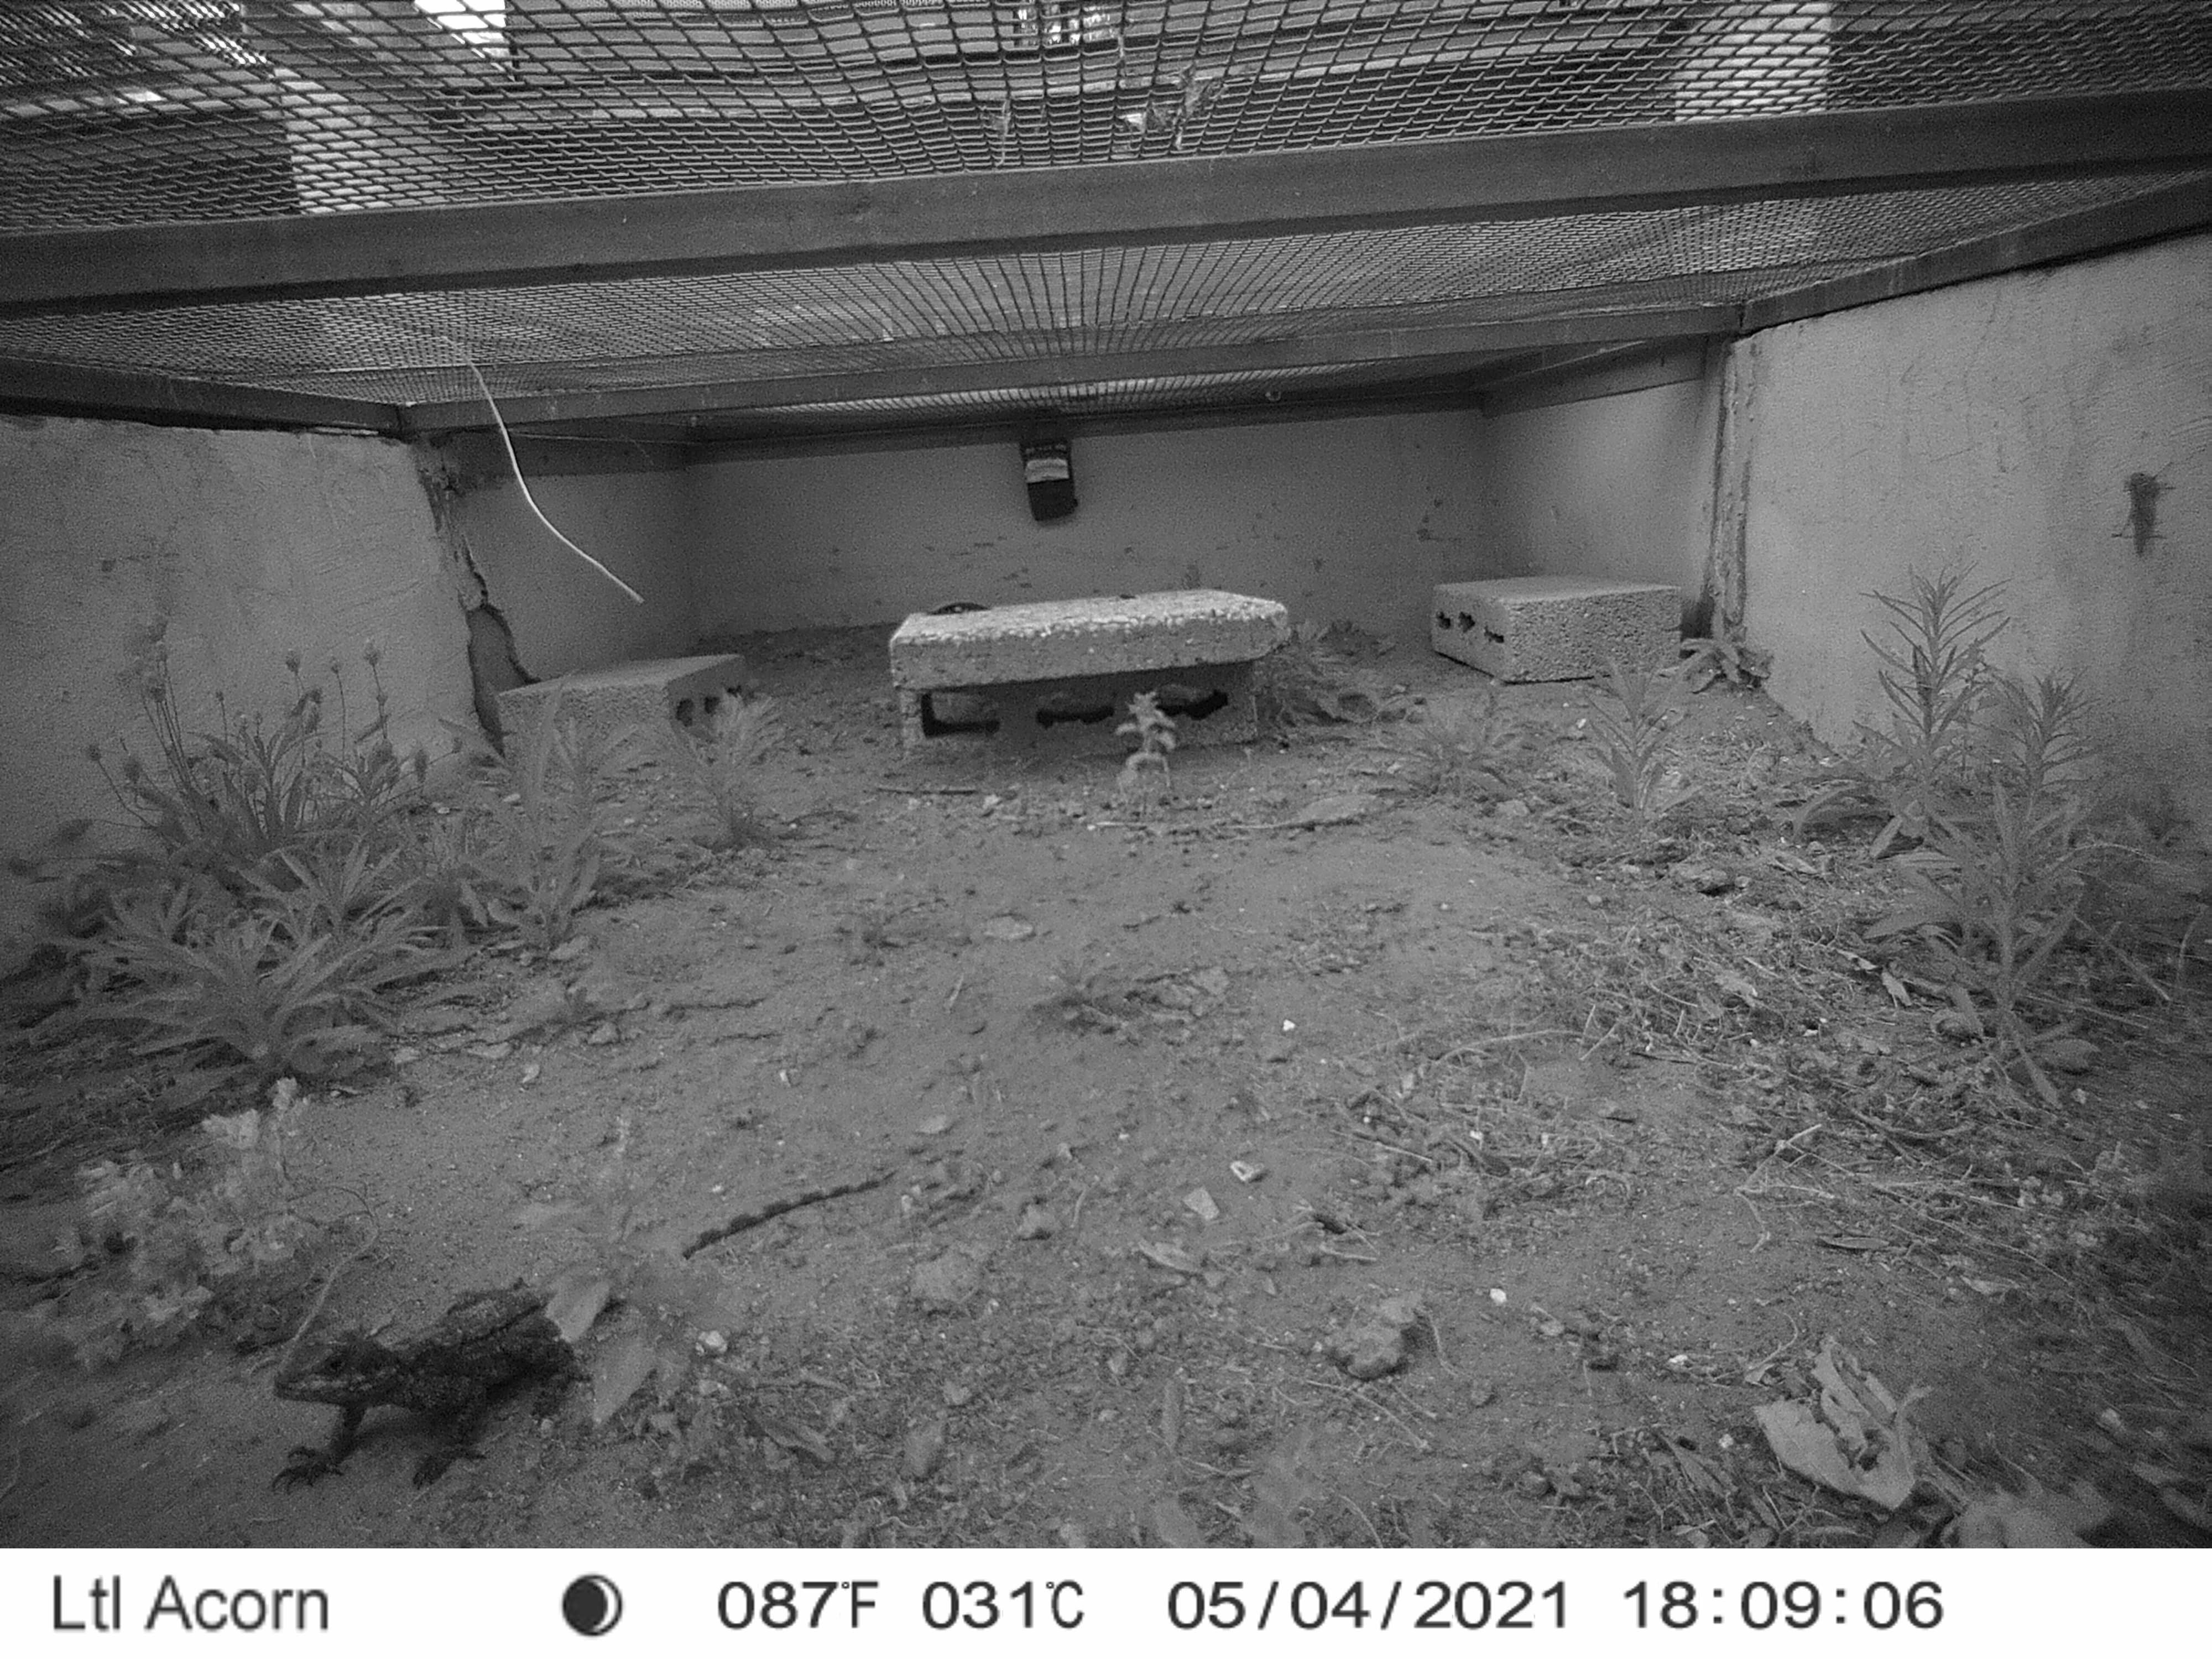lizard: (270, 1162, 890, 1502)
